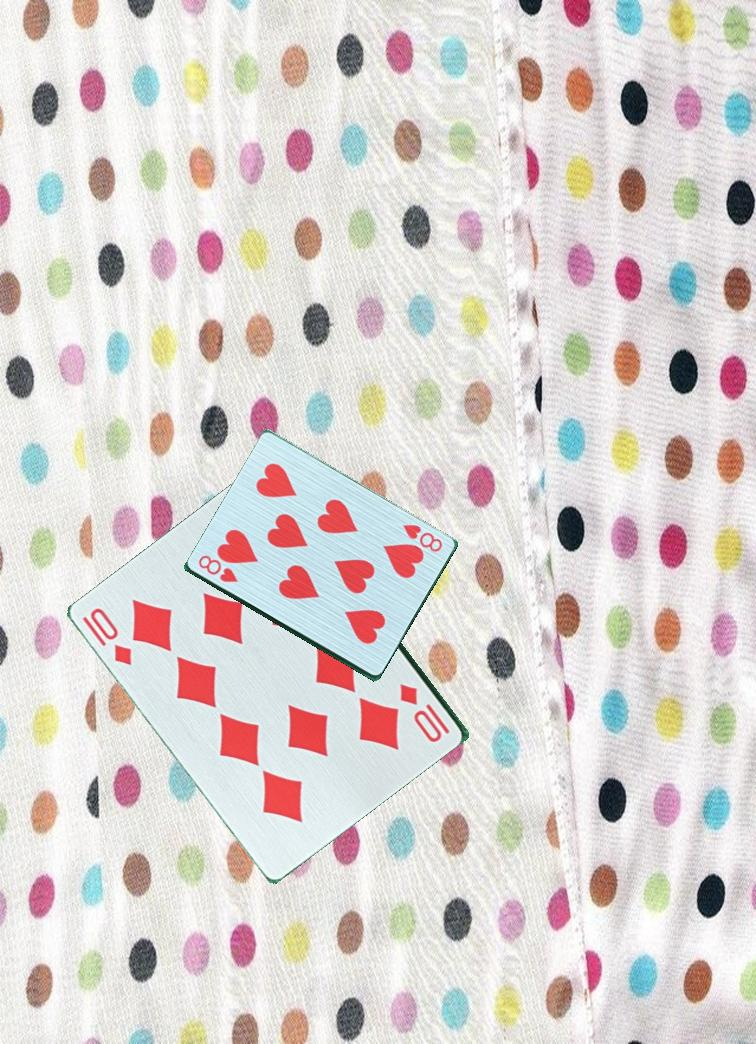8h: (195, 551, 245, 588), (399, 521, 446, 555)
td: (394, 673, 452, 737), (85, 603, 135, 669)
